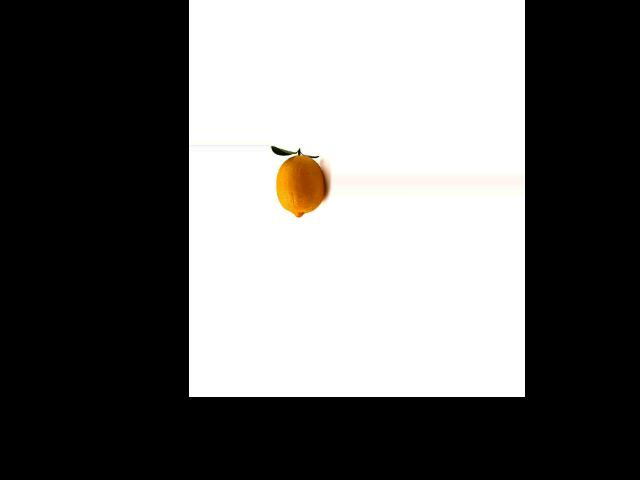lemon: (275, 153, 327, 221)
